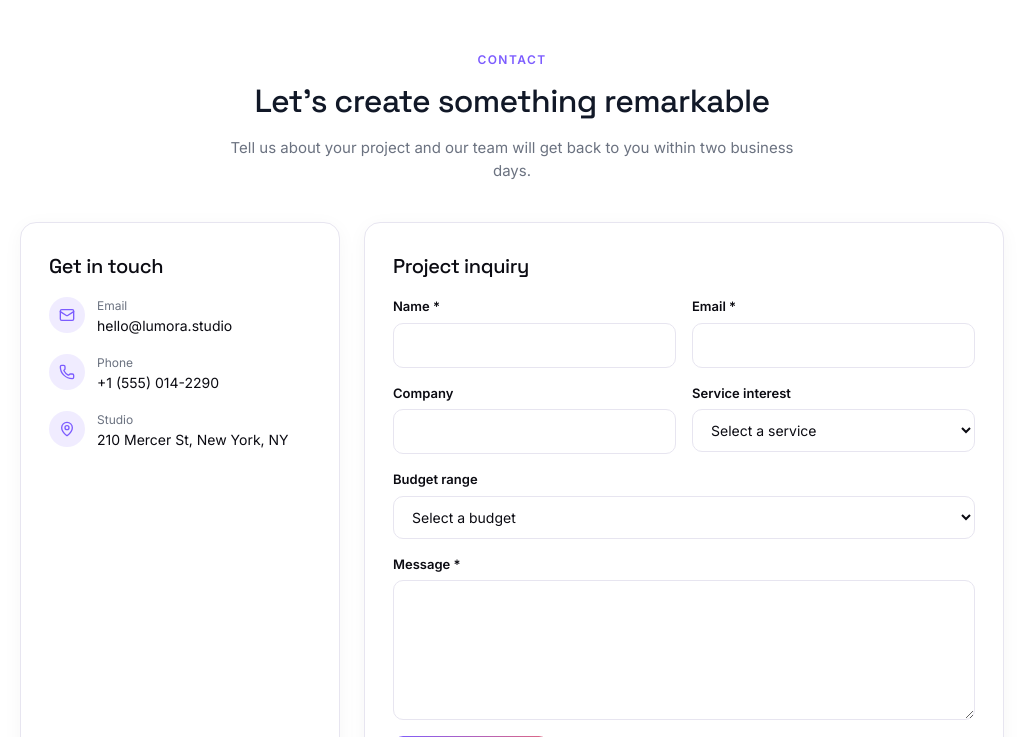
Test: Contact page › submits and shows success
Type "Ada" into the field labelled "Name *" at (534, 345), box [393,322,676,368]
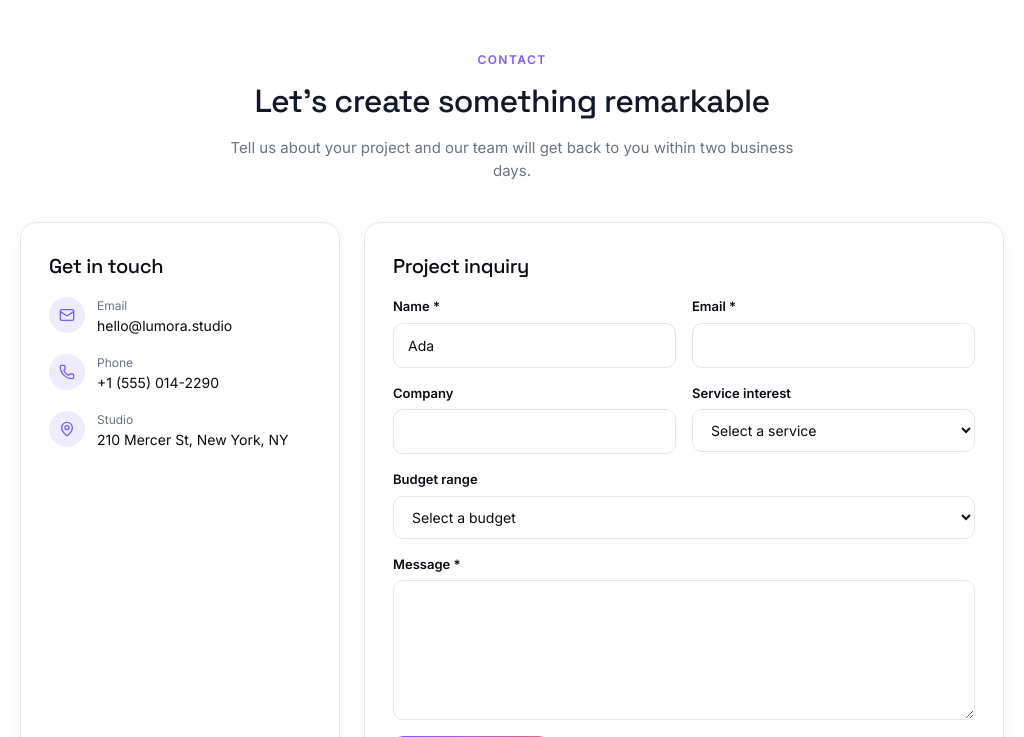
Type "ada@example.com" into the field labelled "Email *" at (834, 345), box [692,322,975,368]
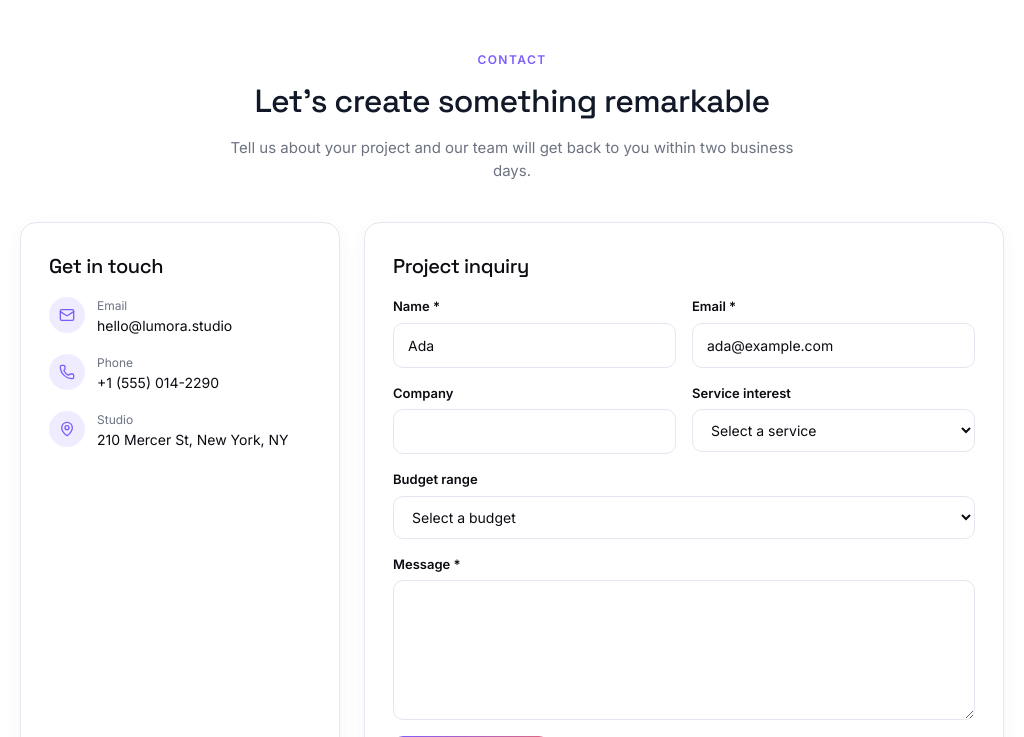
Select "$25k – $50k" in the dropdown labelled "Budget range" at (684, 517), box [393,496,975,538]
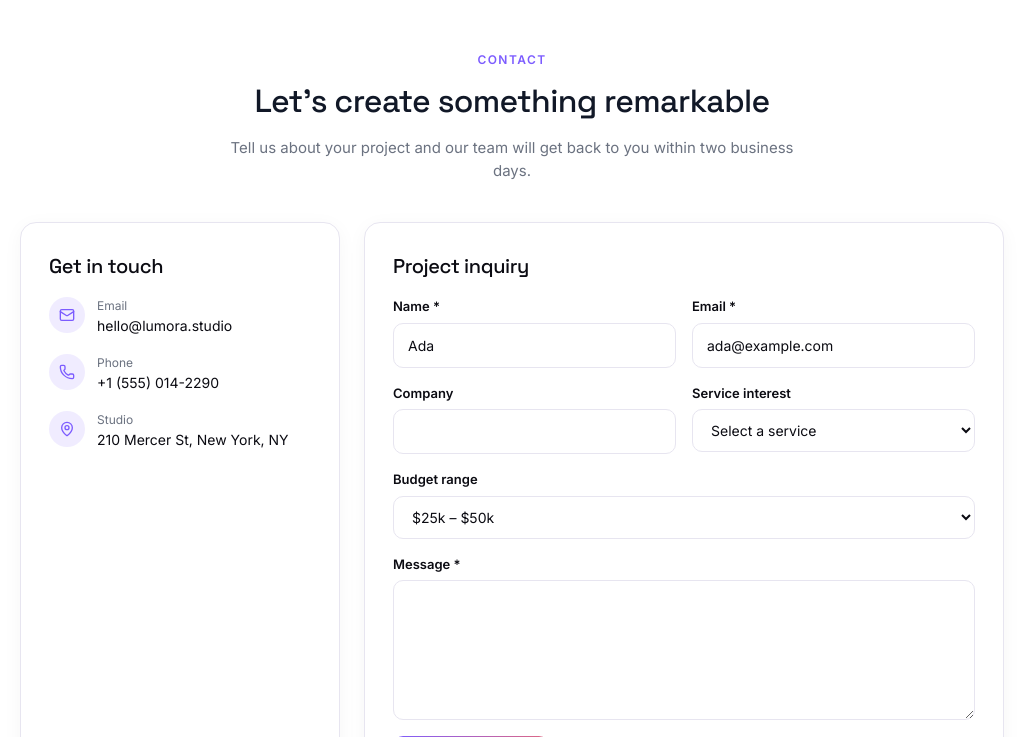
Type "New brand film" into the text box labelled "Message *" at (684, 650), box [393,580,975,720]
(page scrolled)
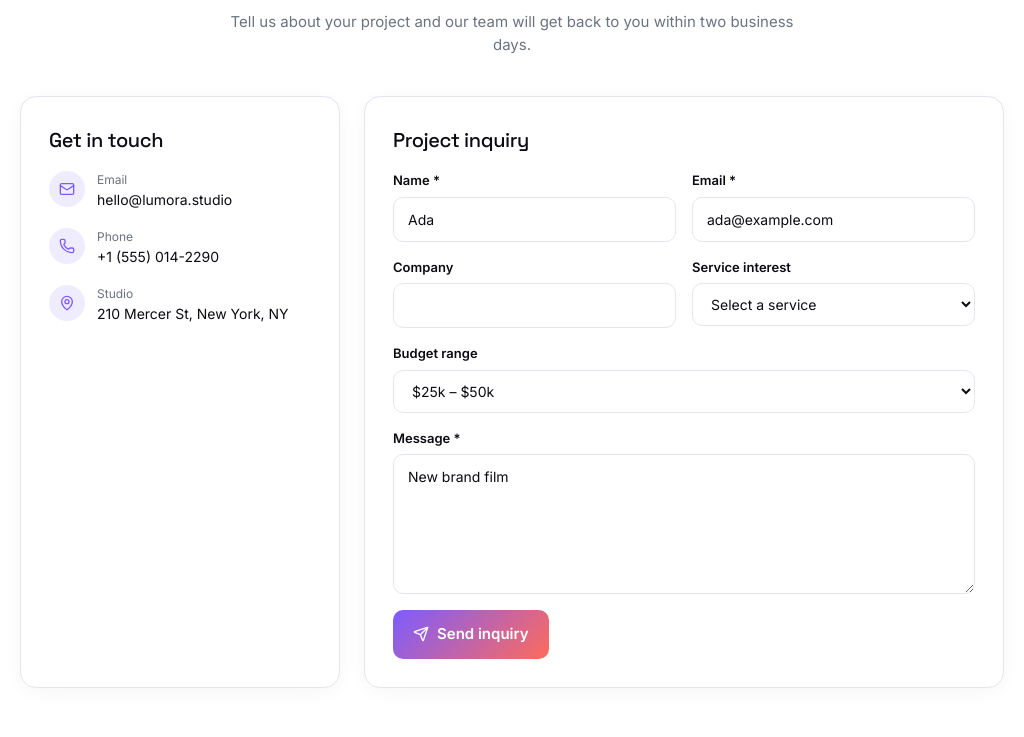
Click the button "Send inquiry" at (471, 634), box [393,610,548,658]
(page scrolled)
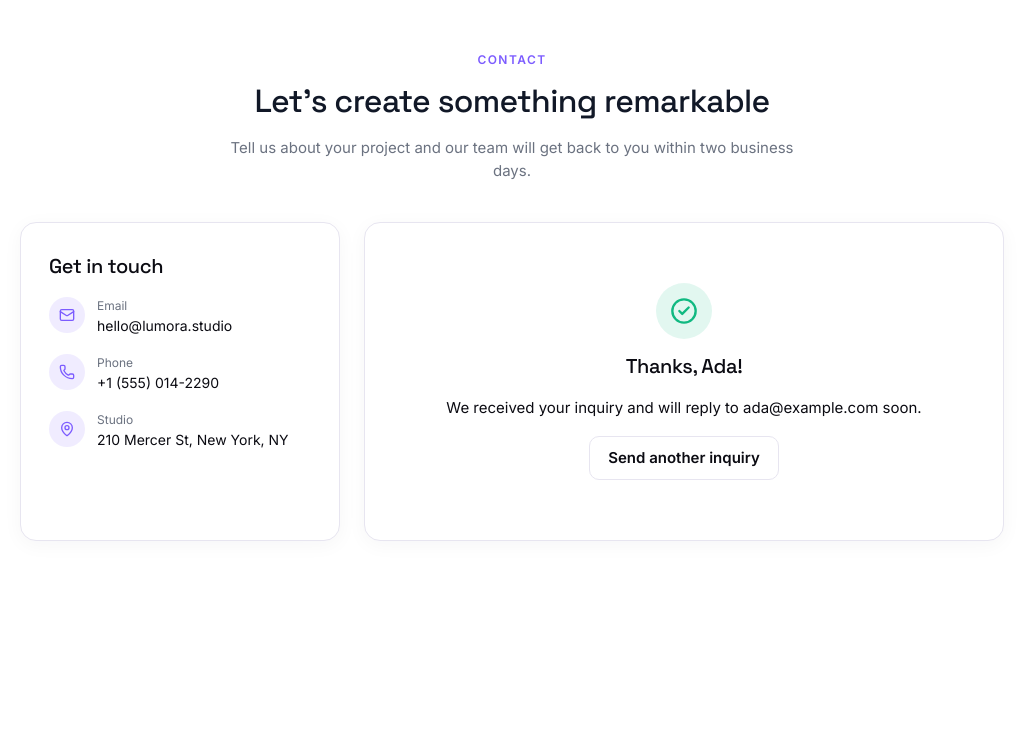
Now the heading "Thanks, Ada!" is shown, box [626,353,742,379]
